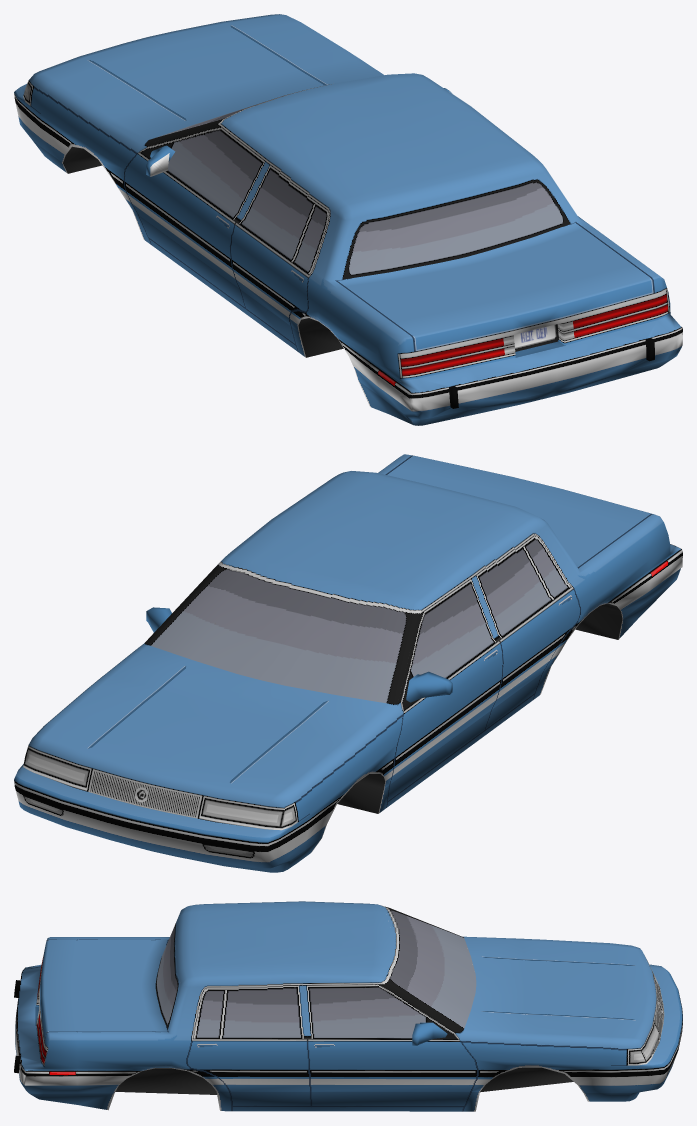
The model's file is 90electra.fbx.
3 views of the same model, one above another, from view 1: azimuth 30°, elevation 25°; view 2: azimuth 150°, elevation 25°; view 3: azimuth 270°, elevation 25° (orthographic). The views are drawn at different scales.
Parts seen in each view (by area): view 1: 90electra; view 2: 90electra; view 3: 90electra.
Part boxes in pixels (x1=…): 90electra: x1=14, y1=14, x2=682, y2=425; 90electra: x1=14, y1=454, x2=682, y2=872; 90electra: x1=14, y1=901, x2=682, y2=1111.
Size of the model in its own units: 2.08 by 1.08 by 5.04.
